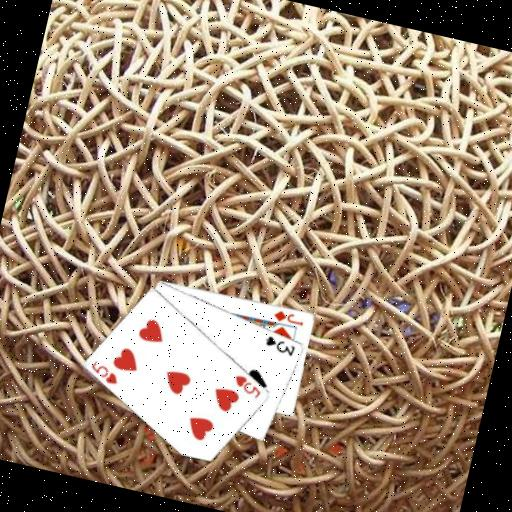3S: (261, 332, 299, 358)
5H: (229, 371, 266, 401), (86, 357, 123, 387)
JD: (270, 307, 307, 329)
